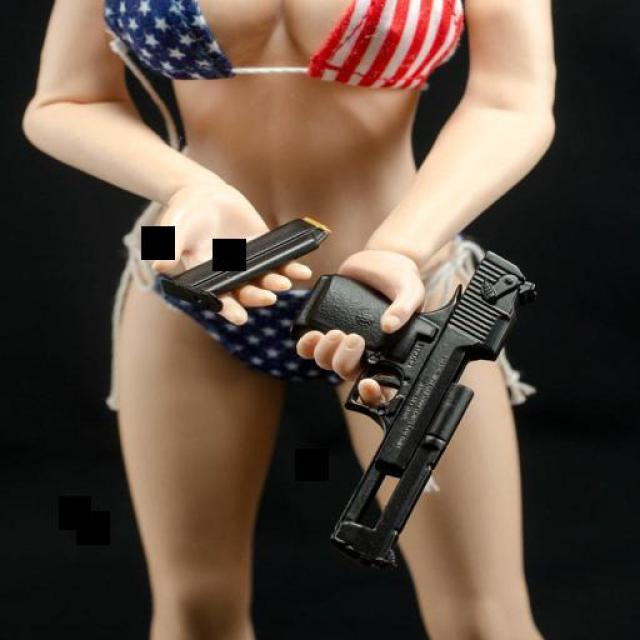gun: (299, 246, 531, 566)
